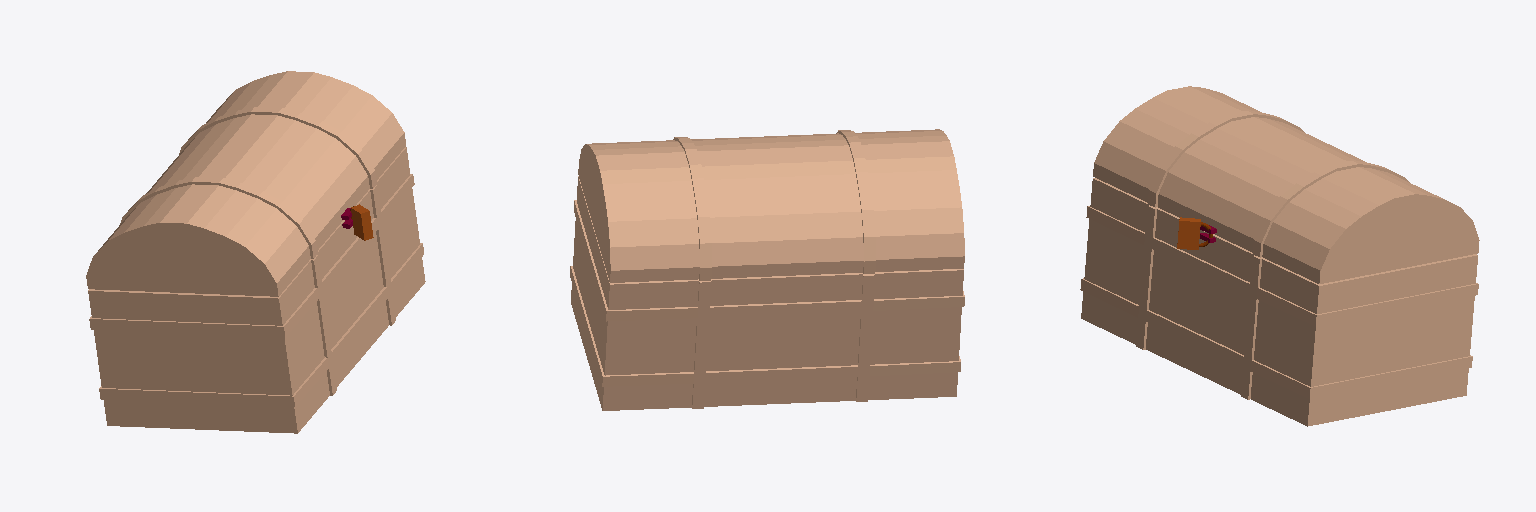
The model's file is chest_for_Blender.obj.
3 renders of one model, left to right at view 1: azimuth 30°, elevation 25°; view 2: azimuth 150°, elevation 25°; view 3: azimuth 270°, elevation 25°, orthographic.
Visible parts, largest first — view 1: chest, chest_metal_part, Lock_Body; view 2: chest, chest_metal_part; view 3: chest, chest_metal_part, Lock_Body.
Boxes of the visible parts, x1,y1,x2,y2 form: chest: [86, 71, 425, 433]; chest_metal_part: [89, 107, 423, 406]; Lock_Body: [351, 204, 373, 240]; chest: [571, 129, 964, 410]; chest_metal_part: [570, 130, 964, 408]; chest: [1081, 86, 1479, 426]; chest_metal_part: [1080, 111, 1478, 399]; Lock_Body: [1177, 217, 1200, 249].
Size of the model in its own units: 7.1 by 4.22 by 6.69.